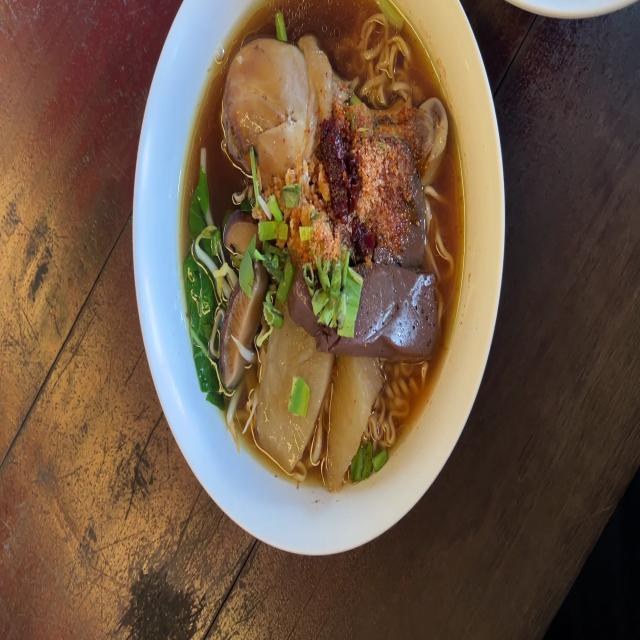boiled_chicken_blood_jelly: (346, 269, 437, 354)
chicken_drumstick: (220, 40, 448, 188)
daikon_radish: (259, 334, 376, 476)
noodle: (178, 0, 472, 506)
